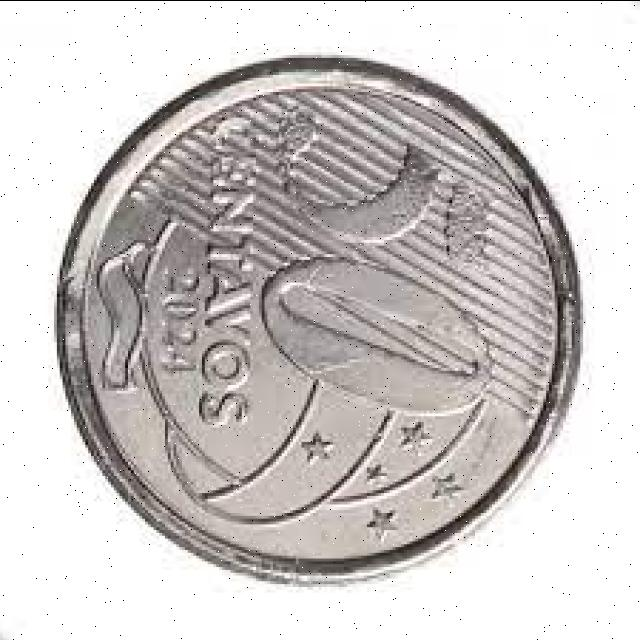50 cent: (56, 55, 582, 586)
